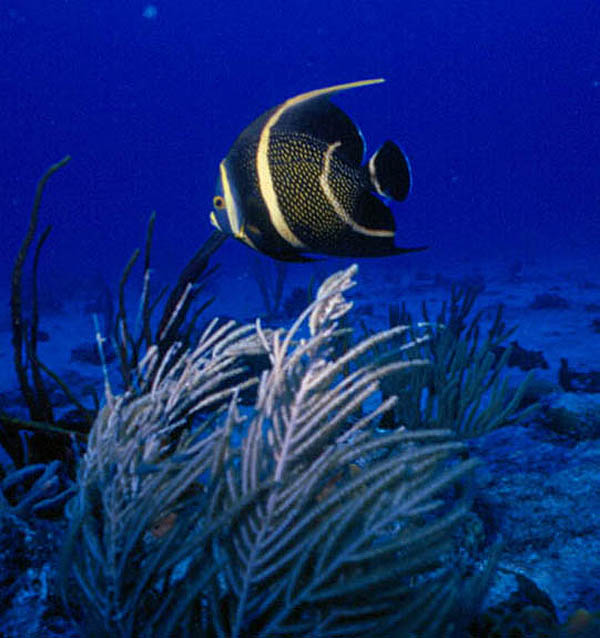Pomacanthus_paru: (184, 67, 442, 277)
